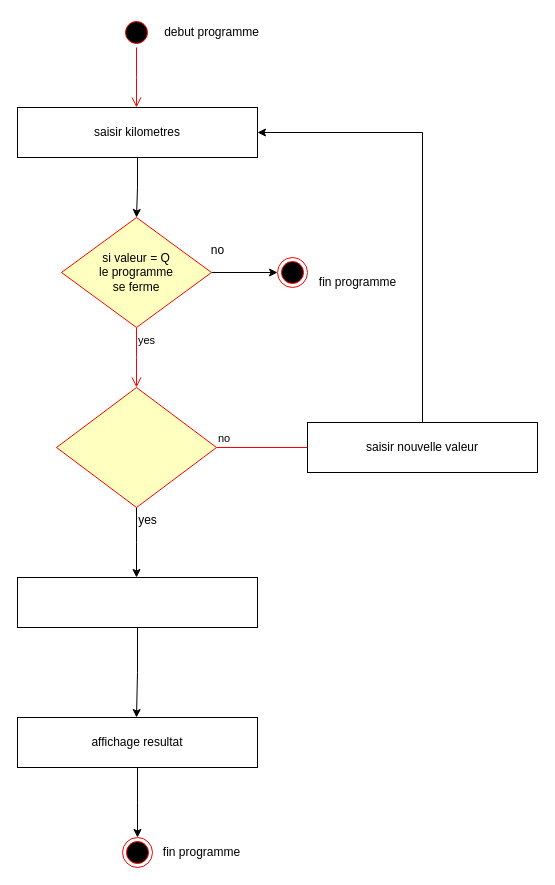
Image size: 555x885. Some labels were removed from this diagram. The shapes that lost their labels are listed below. From the top down, each one's centre as x and y in pixels, then its label:
the point at 136,447: si valeur >0.01 & <1 milion
the point at 137,602: conversion miles
